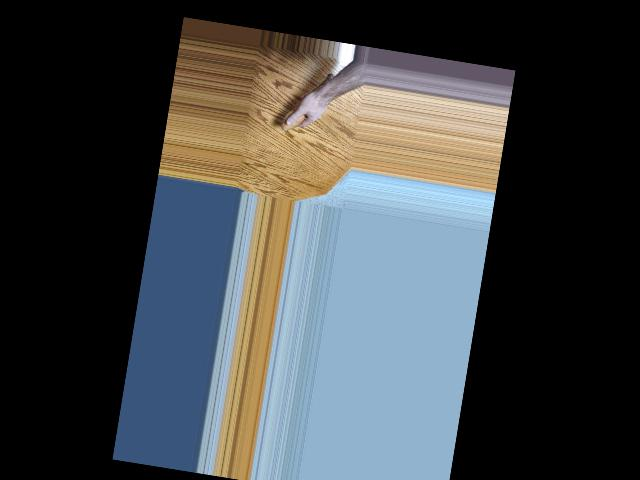sweet_potato: (280, 67, 333, 137)
